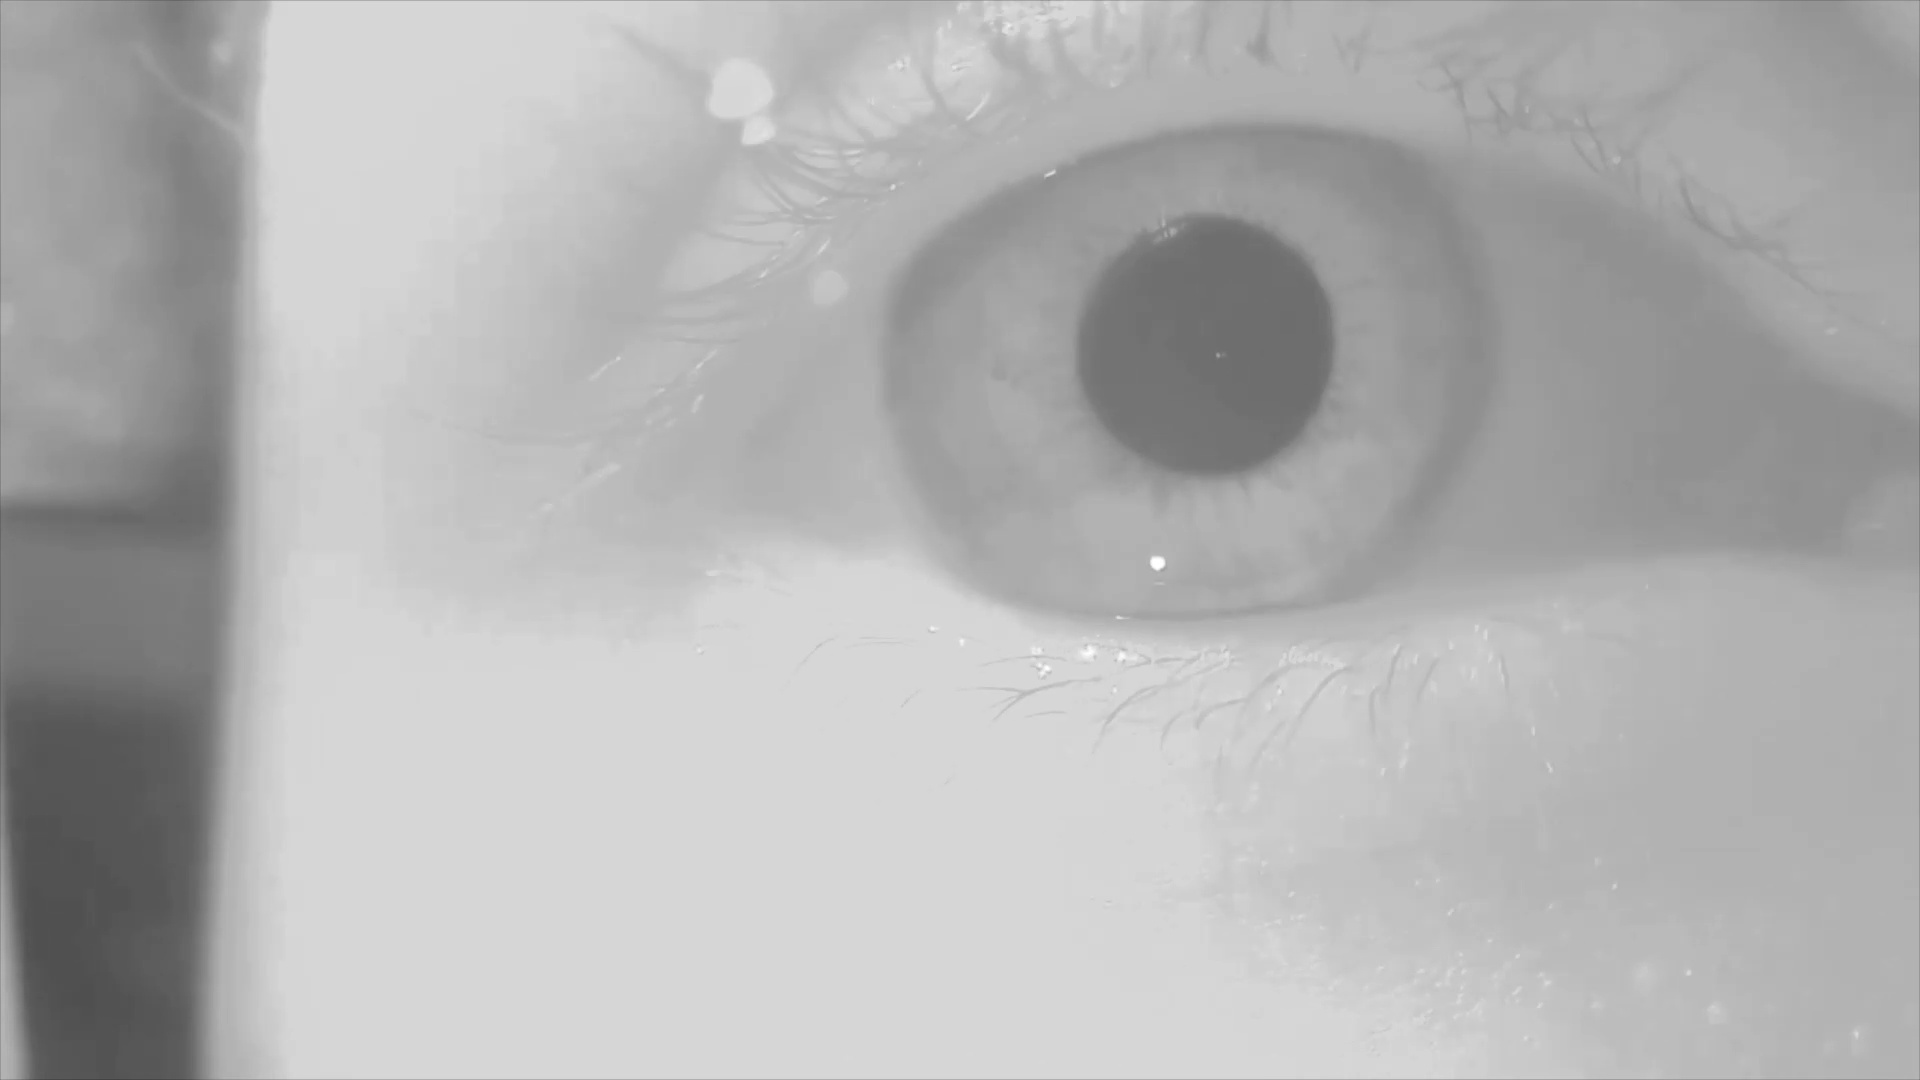pupil: (1079, 221, 1339, 474)
